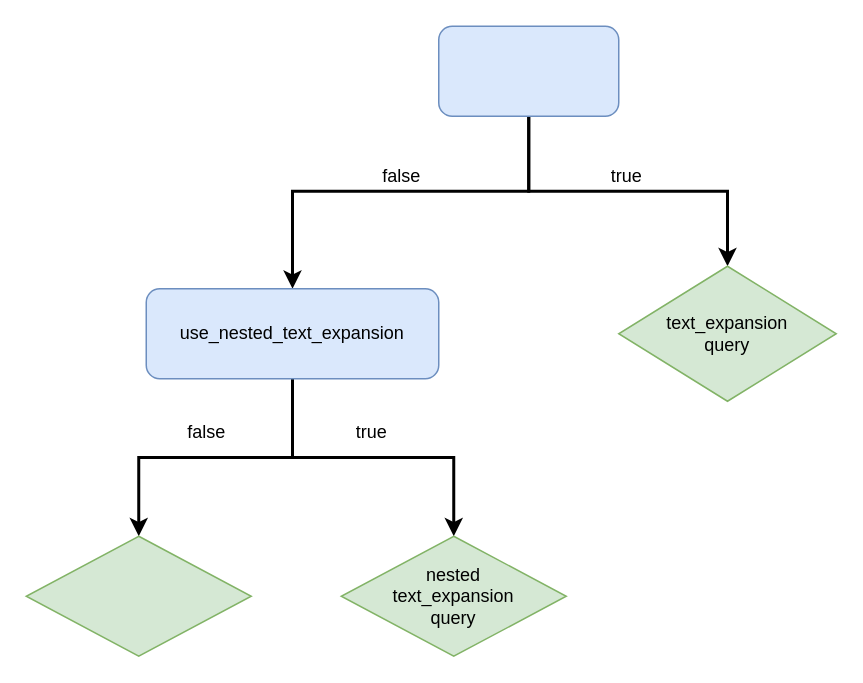
The diagram is 863 pixels wide and 683 high, and some of its shapes have lost their labels. Each missing label, with the centre of its shape:
"semantic query" belongs at (x=138, y=595).
"use_pipelines" belongs at (x=528, y=70).
